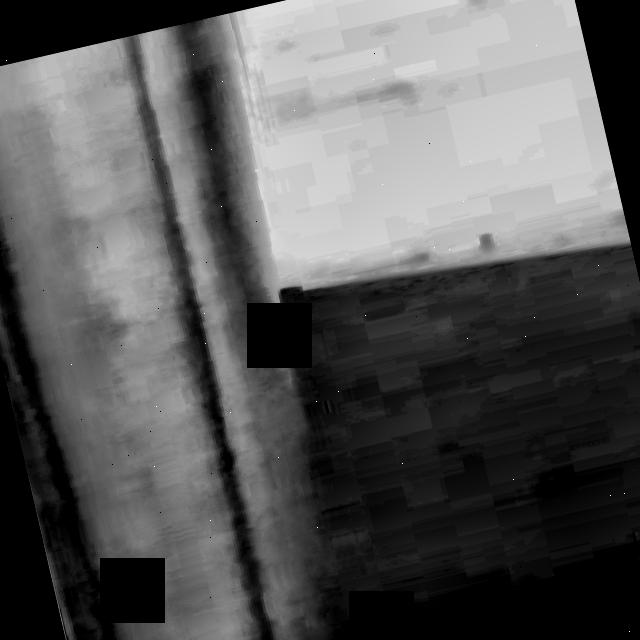bottle: (0, 13, 336, 640)
